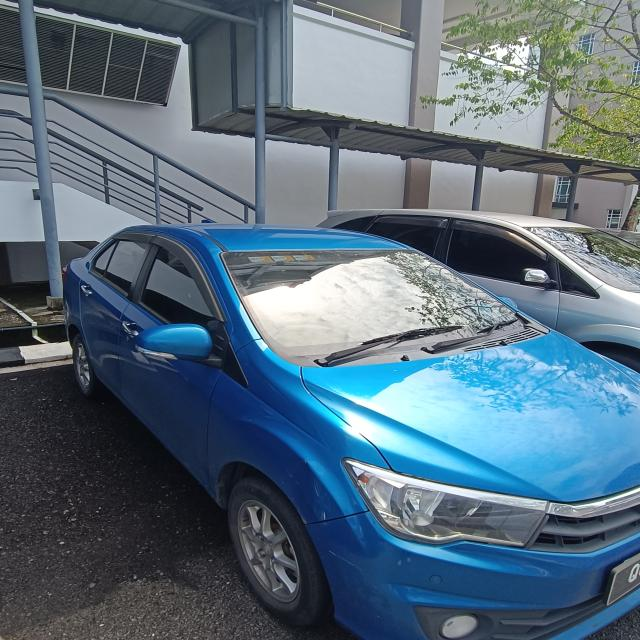PeroduaBezza: (61, 221, 639, 639)
